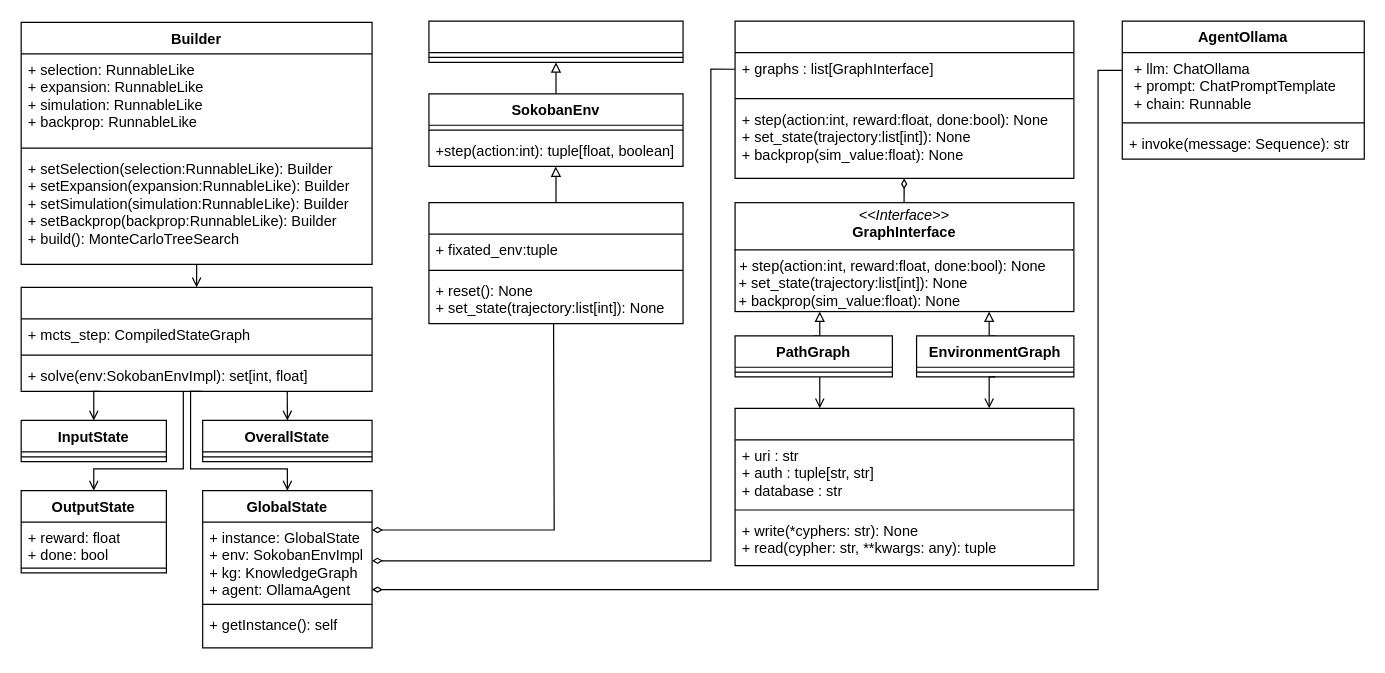
Image size: 1385x673. Some labels were removed from this diagram. Here are the shapes that lost their labels. From the top down, the box of each, then its label:
(428, 20, 683, 62): gym.Env
(734, 20, 1074, 178): KnowledgeGraph
(428, 201, 683, 324): SokobanEnvImpl
(20, 286, 372, 391): MonteCarloTreeSearch
(734, 407, 1074, 566): Neo4JClient
